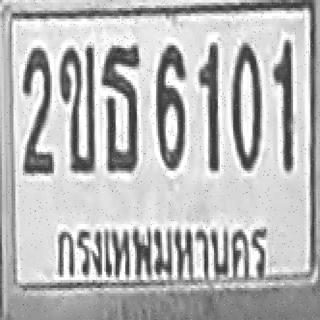A02: (58, 43, 96, 171)
A24: (101, 43, 140, 171)
N00: (231, 40, 260, 168)
N01: (272, 40, 293, 171), (198, 41, 219, 169)
N02: (22, 45, 53, 173)
N06: (154, 43, 185, 168)
P04: (49, 213, 272, 286)
